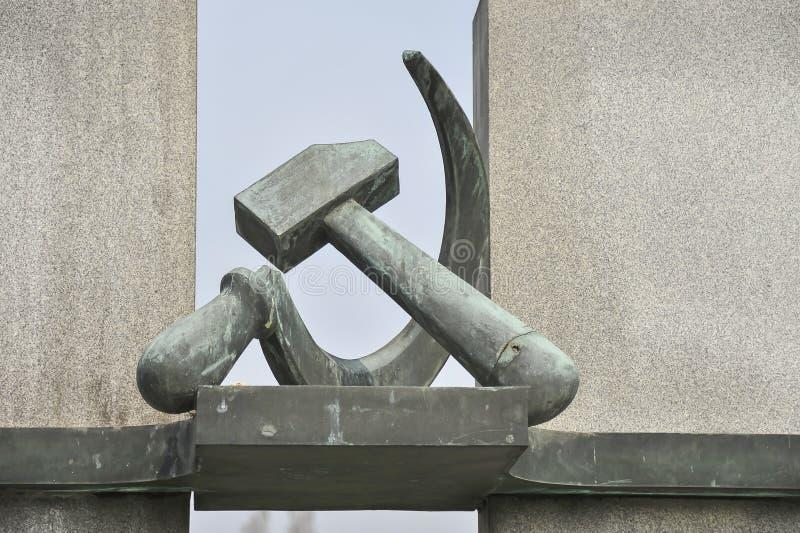foice: (144, 45, 492, 418)
